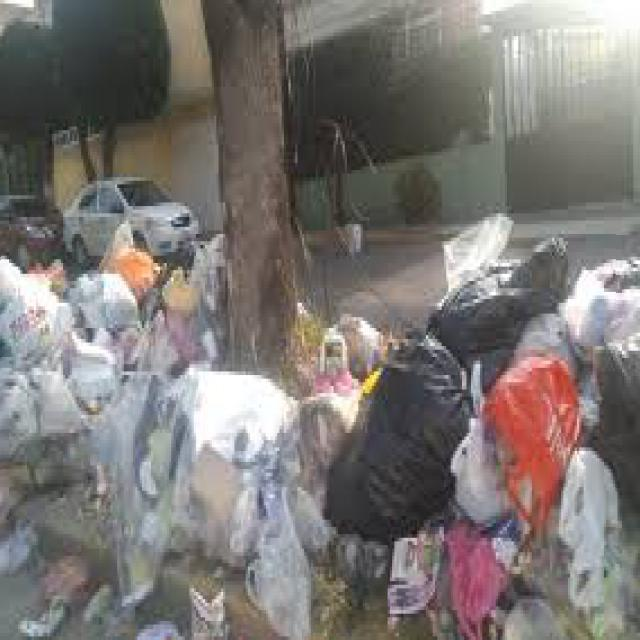Anorganik: (0, 226, 616, 630)
